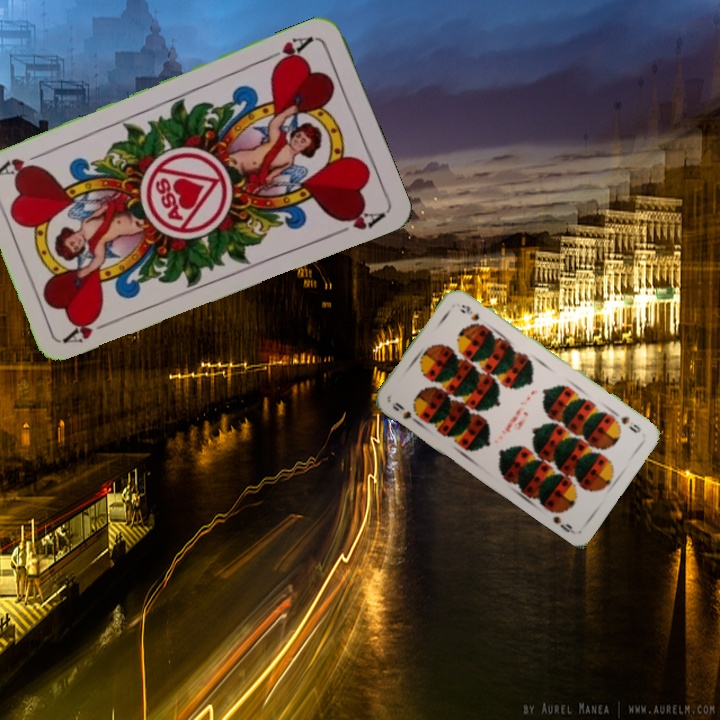HA: (60, 308, 118, 346), (262, 32, 316, 70)
S9: (388, 398, 422, 427), (609, 408, 644, 436)
